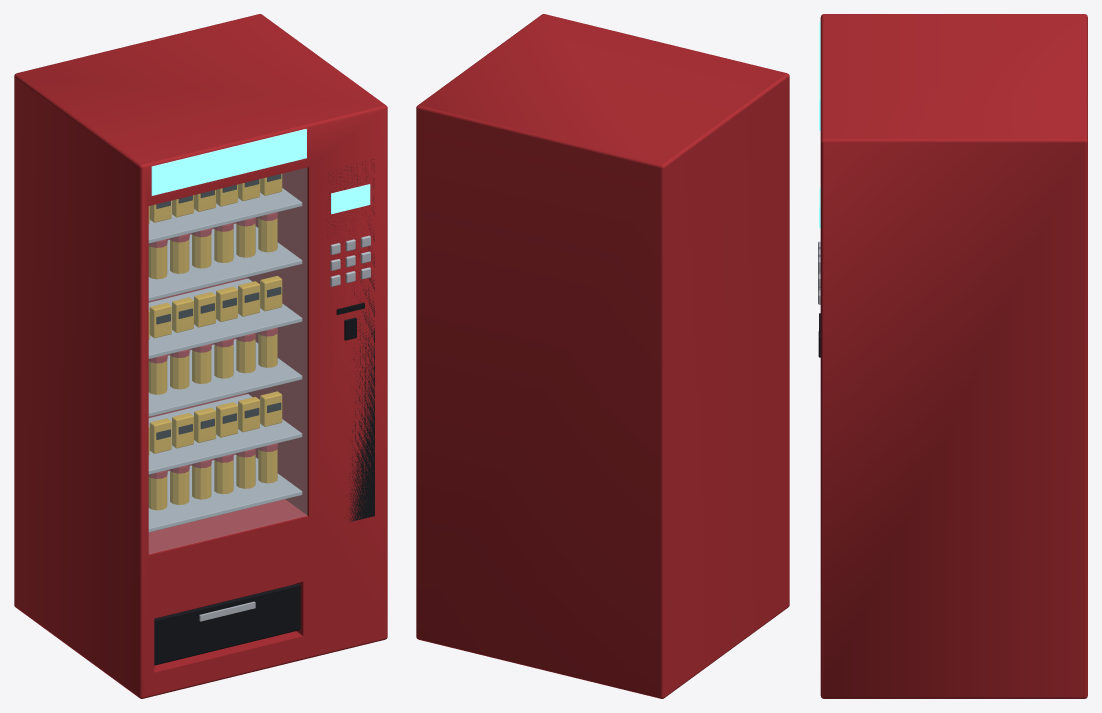
File: VendingMachine.fbx
3 views of the same model, side by side, from view 1: azimuth 30°, elevation 25°; view 2: azimuth 150°, elevation 25°; view 3: azimuth 270°, elevation 25° (orthographic). The views are drawn at different scales.
Visible parts, largest first — view 1: VendingMachine; view 2: VendingMachine; view 3: VendingMachine.
Part boxes in pixels (x1,y1,x2,y2): VendingMachine: (14,14,387,698); VendingMachine: (416,14,789,698); VendingMachine: (818,14,1087,698).
Bounding box in the file's own units: 0.09 × 0.185 × 0.0808.
